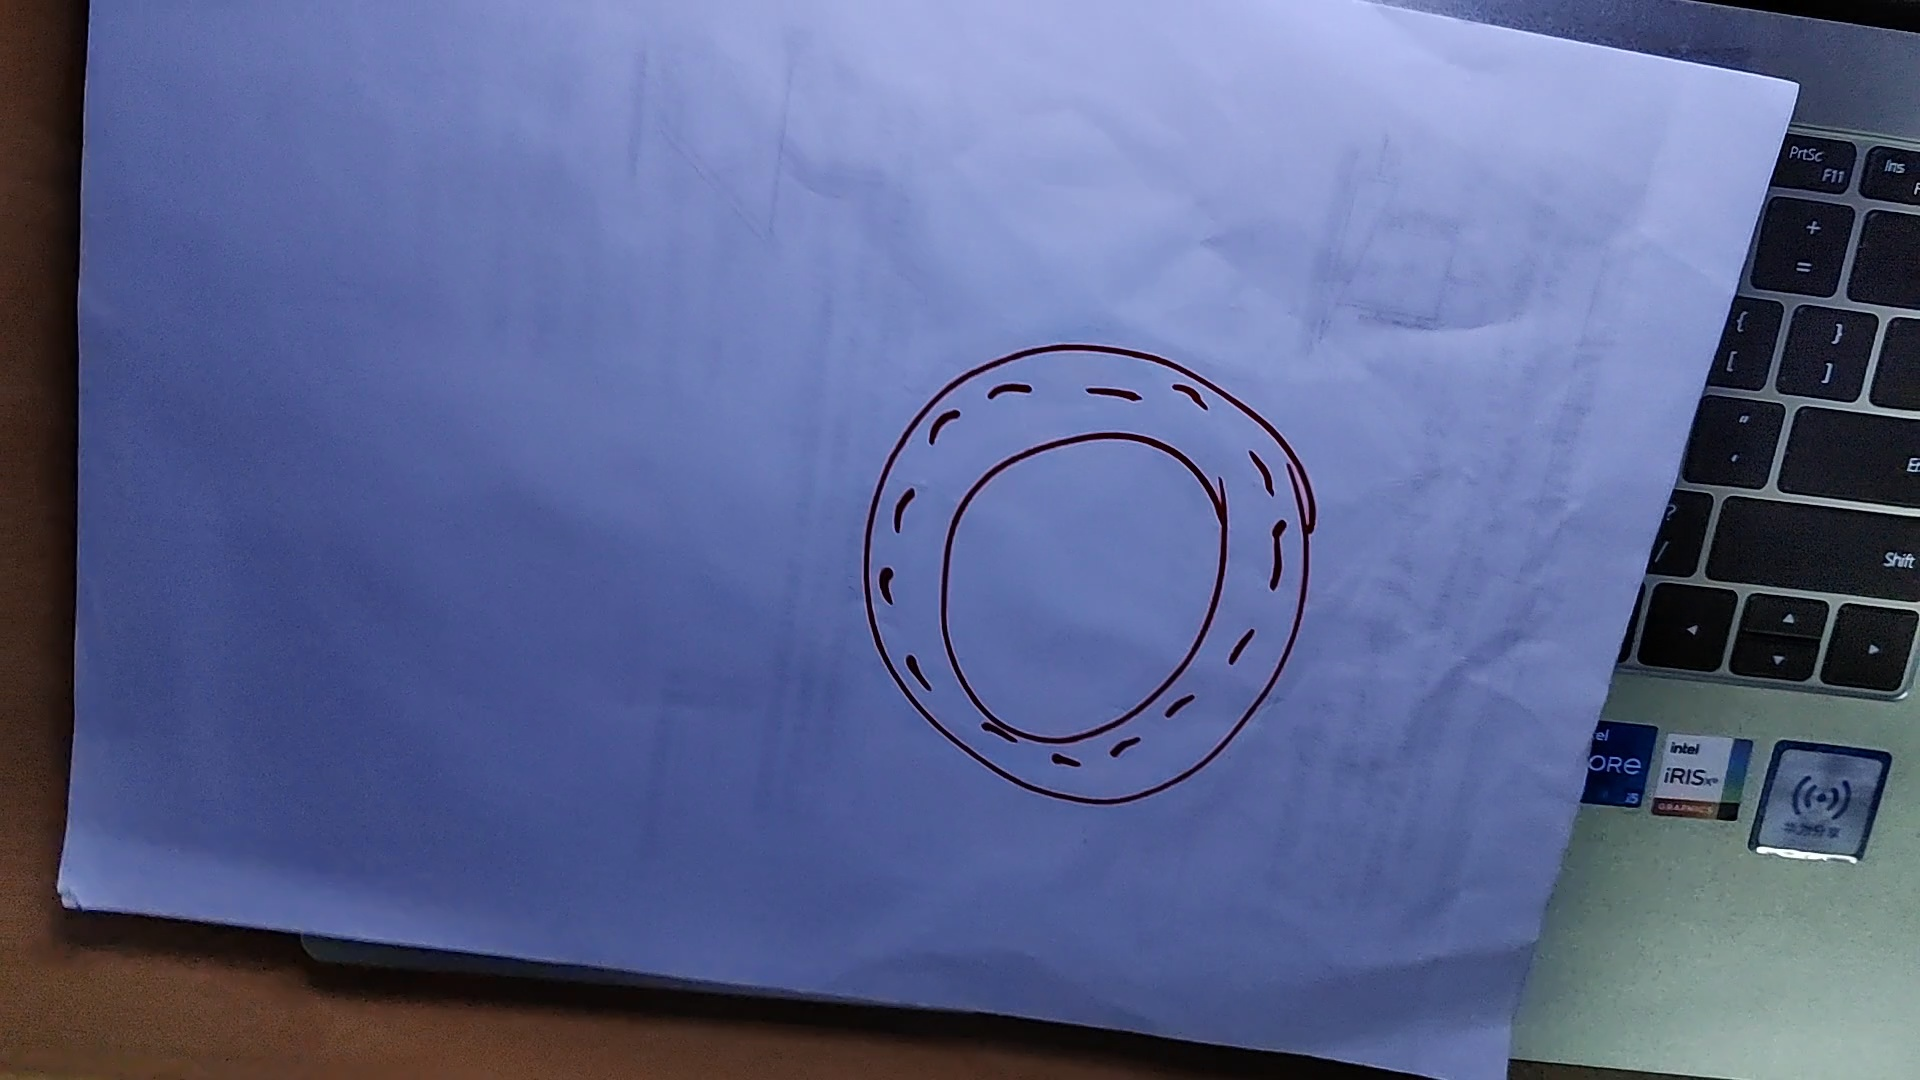circle: (862, 345, 1317, 807)
